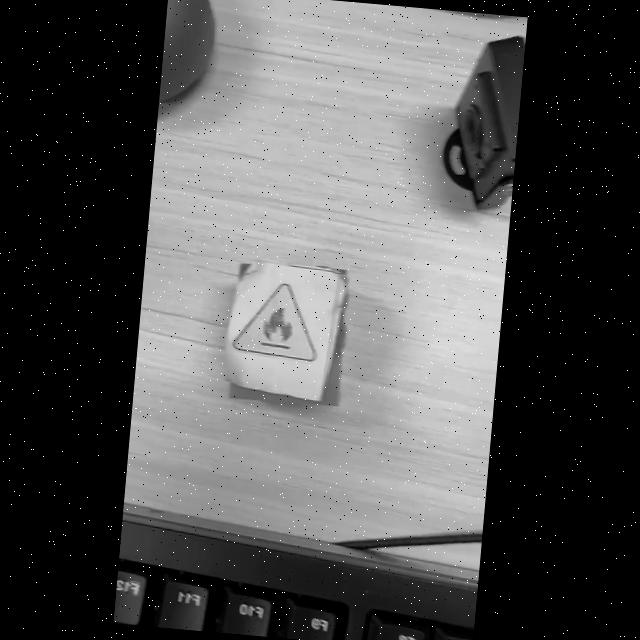Fire: (233, 283, 315, 361)
